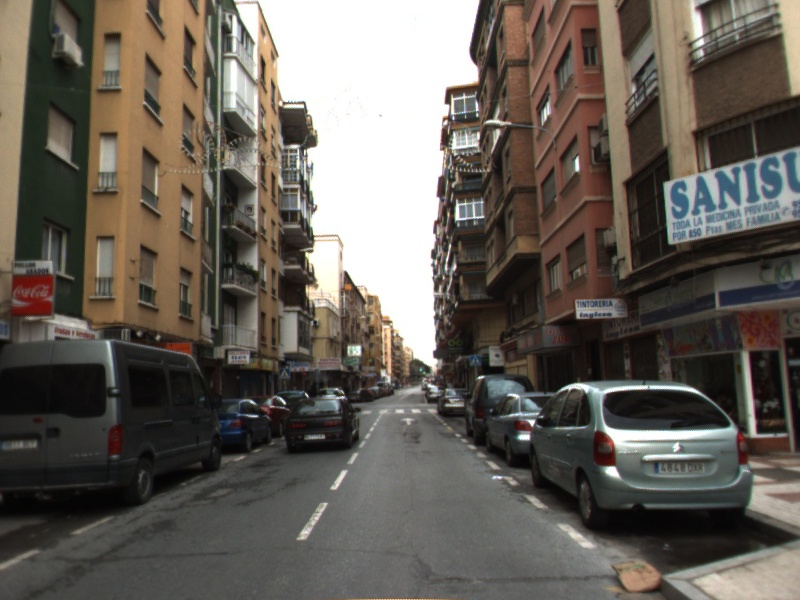STRAIGHT: (398, 415, 418, 427)
